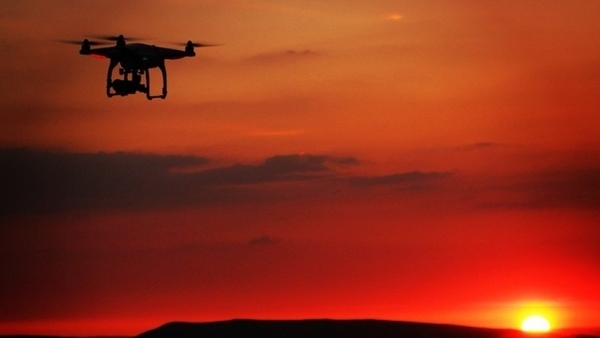drone: (52, 32, 225, 103)
